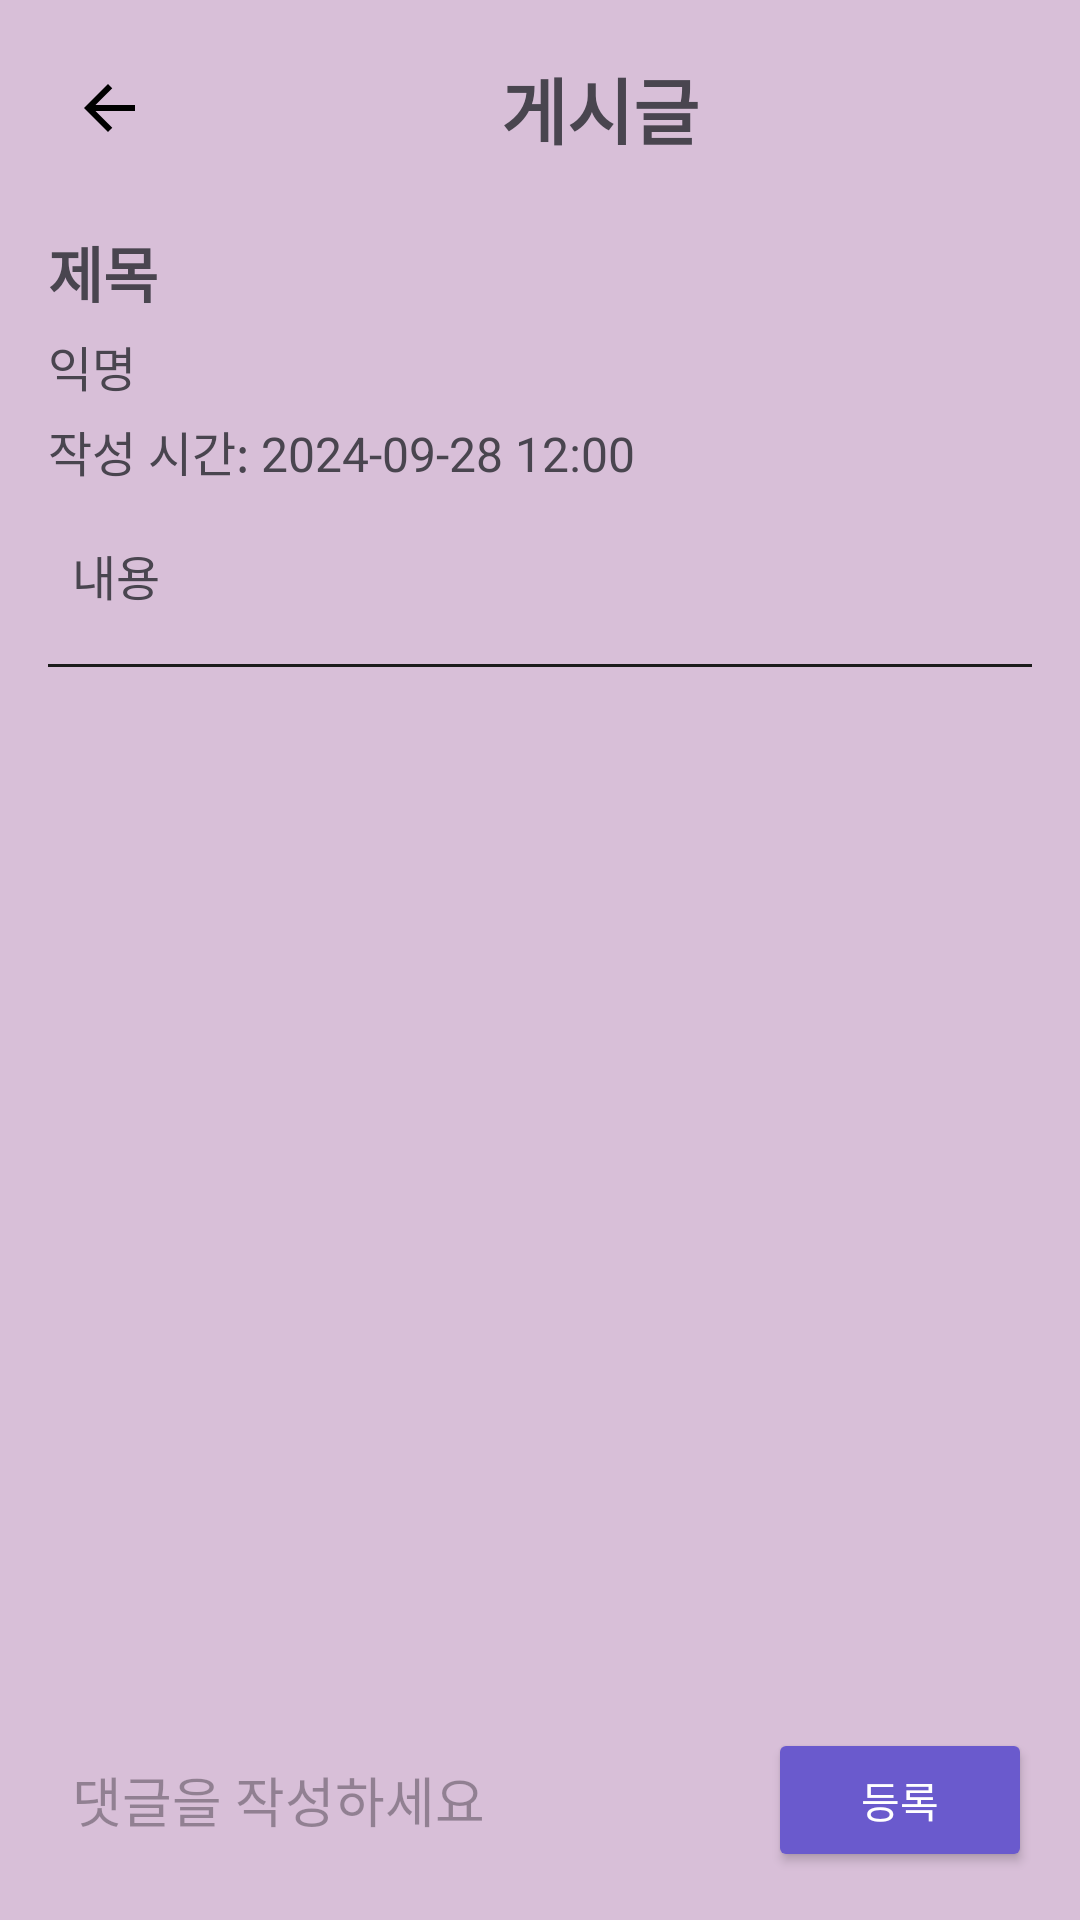

Point at icon controls on the screen. Image size 1080*1920, points as [x,y].
arrow back: [109,108]
